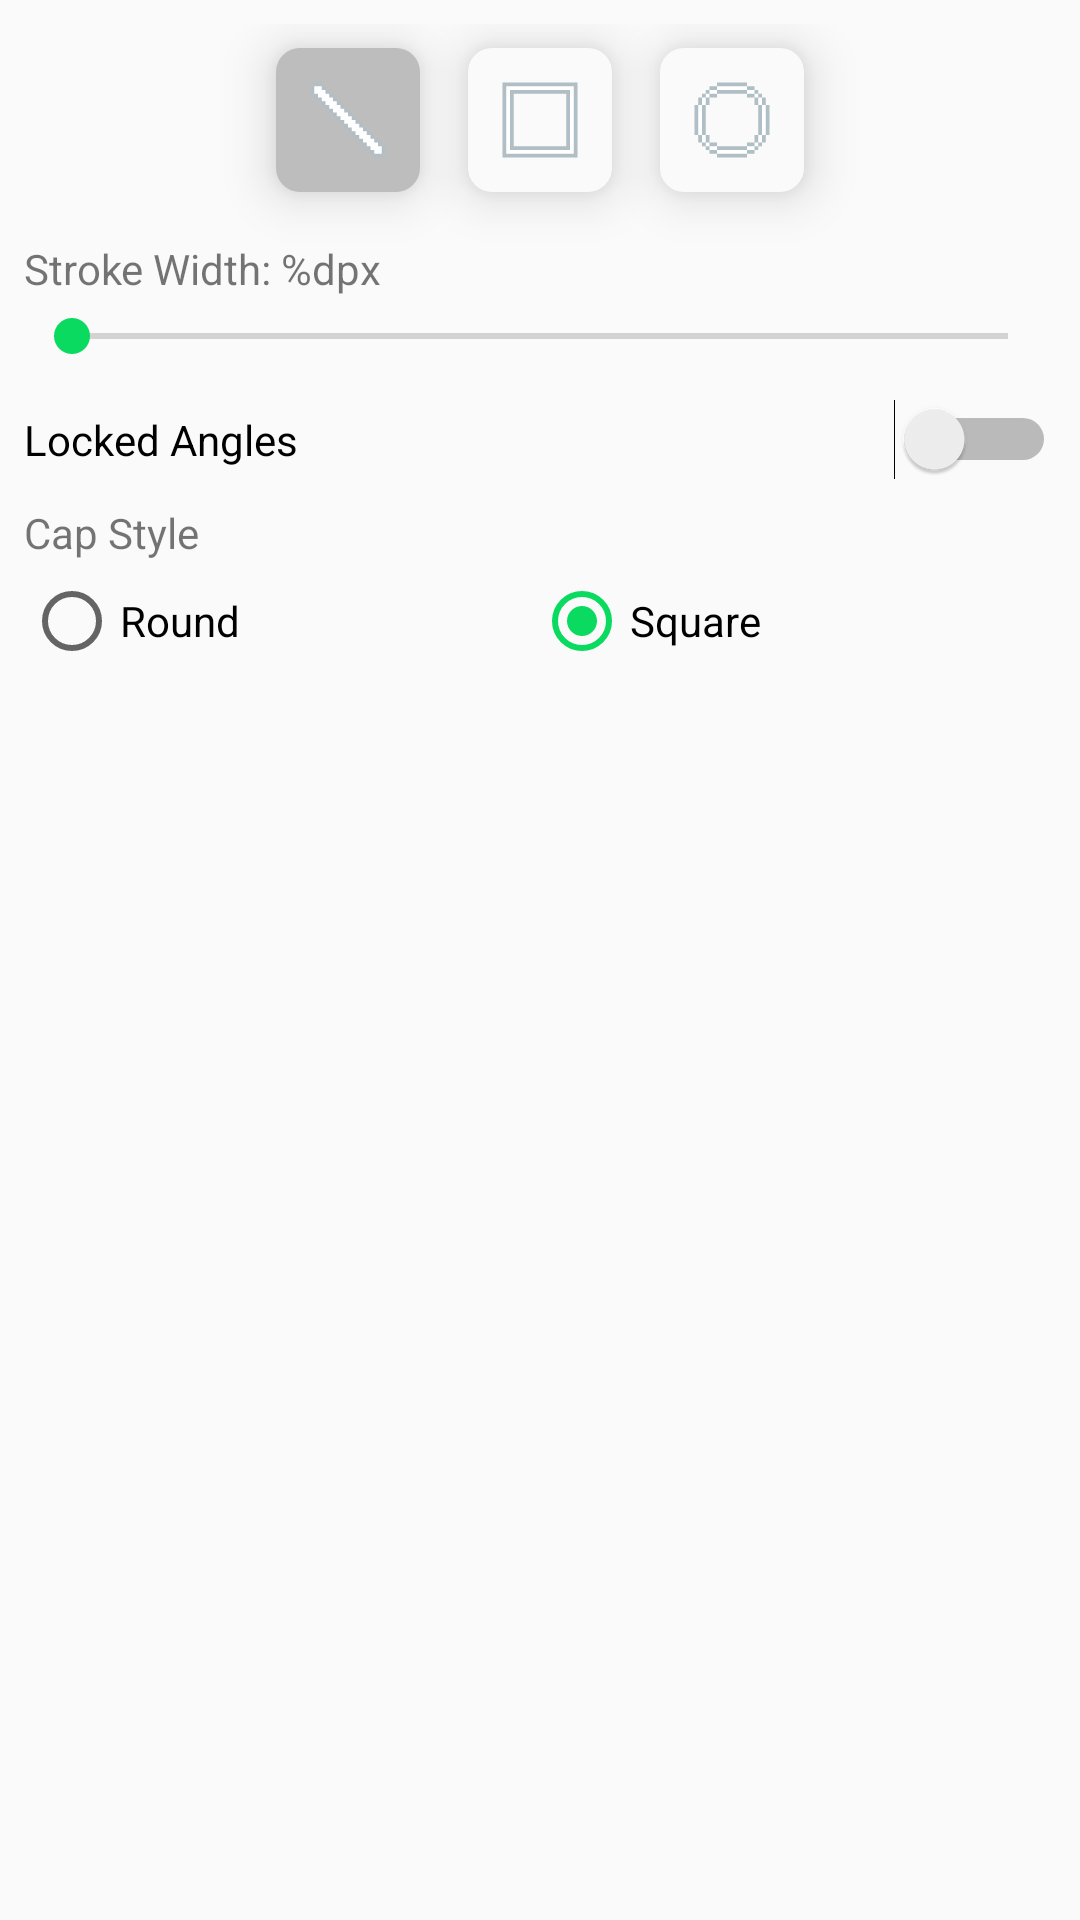

Where to tap for icons on this 1080px×1920px app screen, as (x,y):
circle: (732,120)
line: (348,120)
square: (540,120)
